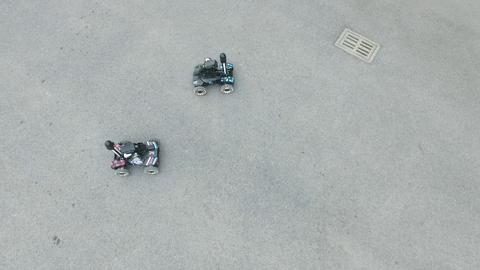chariot: (99, 135, 171, 178), (188, 52, 244, 98)
